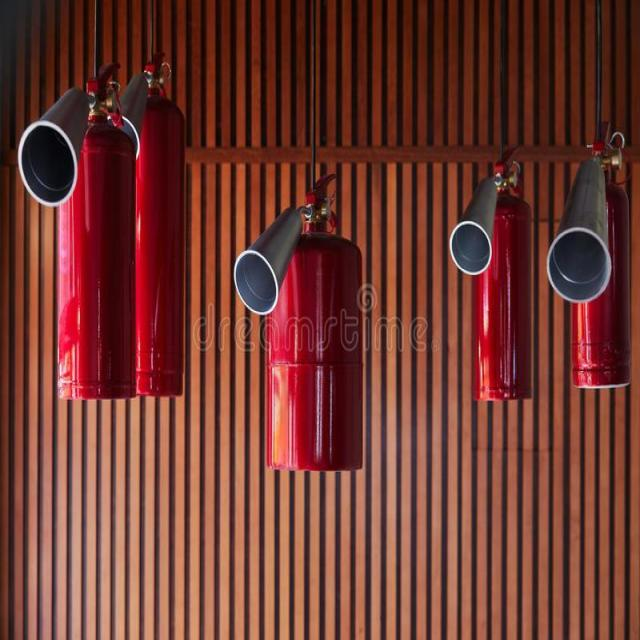fire_extinguisher: (15, 52, 145, 401), (232, 168, 369, 474), (96, 49, 192, 396), (542, 116, 636, 392), (445, 137, 536, 403)
